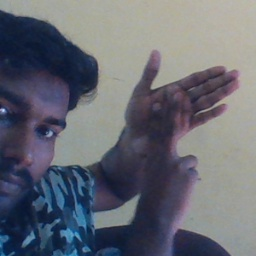N: (119, 48, 242, 201)
